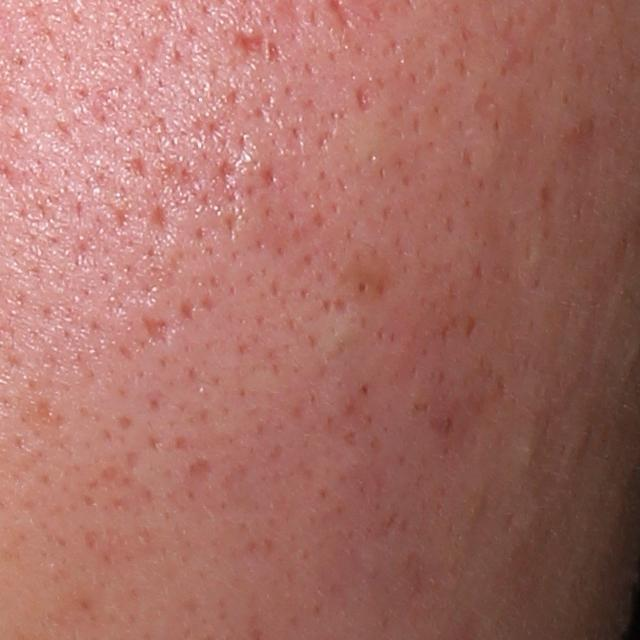atrophic_scar: (157, 157, 203, 204), (140, 314, 173, 348), (233, 31, 266, 60), (186, 457, 220, 484), (147, 203, 170, 238), (264, 35, 286, 68)
comedo: (515, 440, 546, 467), (350, 274, 372, 298)
